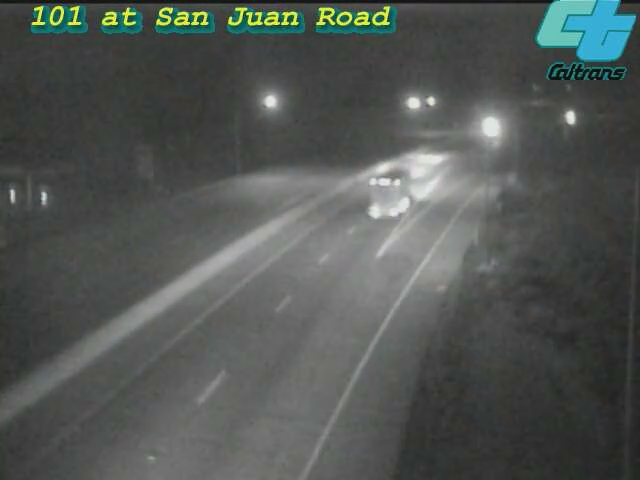vehicle: (364, 129, 444, 209), (355, 154, 435, 234), (462, 103, 512, 153), (546, 93, 596, 143), (403, 134, 453, 184)
